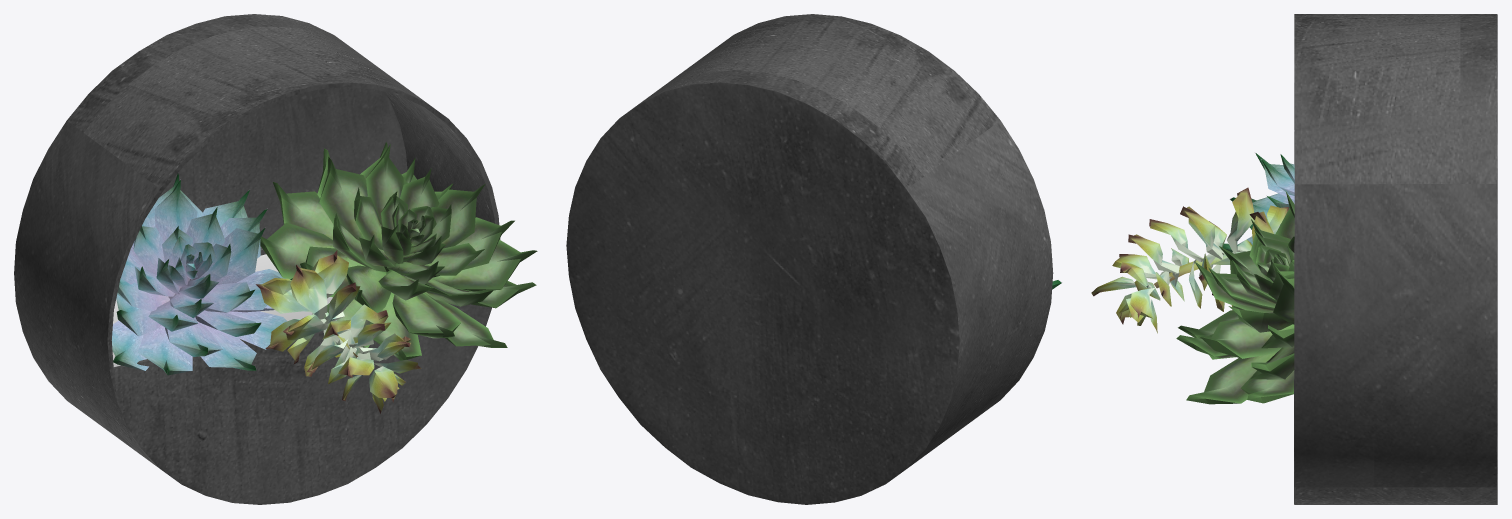
File: Wall Planter 4.glb
3 renders of one model, left to right at view 1: azimuth 30°, elevation 25°; view 2: azimuth 150°, elevation 25°; view 3: azimuth 270°, elevation 25°, orthographic. The views are drawn at different scales.
Parts seen in each view (by area): view 1: 065e1f5c-8f1d-49e2-a413-5db9d1fa396f, ea6b86ba-6585-4d02-be16-92b9d3d7299c, dd700108-ee7a-4bd9-aa08-f4155e44c552, 7743ebbf-c913-441f-8278-0804c7f9e85d, e365e178-91d7-4e0d-96a0-49e2ed9f222e; view 2: 065e1f5c-8f1d-49e2-a413-5db9d1fa396f; view 3: 065e1f5c-8f1d-49e2-a413-5db9d1fa396f, ea6b86ba-6585-4d02-be16-92b9d3d7299c, 7743ebbf-c913-441f-8278-0804c7f9e85d, dd700108-ee7a-4bd9-aa08-f4155e44c552.
Boxes of the visible parts, x1,y1,x2,y2 form: 065e1f5c-8f1d-49e2-a413-5db9d1fa396f: [14, 14, 500, 504]; ea6b86ba-6585-4d02-be16-92b9d3d7299c: [260, 142, 537, 360]; dd700108-ee7a-4bd9-aa08-f4155e44c552: [111, 172, 292, 375]; 7743ebbf-c913-441f-8278-0804c7f9e85d: [256, 250, 421, 413]; e365e178-91d7-4e0d-96a0-49e2ed9f222e: [112, 254, 332, 366]; 065e1f5c-8f1d-49e2-a413-5db9d1fa396f: [566, 14, 1053, 504]; 065e1f5c-8f1d-49e2-a413-5db9d1fa396f: [1294, 14, 1497, 504]; ea6b86ba-6585-4d02-be16-92b9d3d7299c: [1176, 191, 1294, 404]; 7743ebbf-c913-441f-8278-0804c7f9e85d: [1091, 187, 1288, 333]; dd700108-ee7a-4bd9-aa08-f4155e44c552: [1222, 130, 1294, 252].
Bounding box in the file's own units: 0.2282 × 0.2169 × 0.1797.
Materials: 5 (4 with a texture image).
